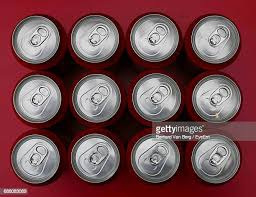can: (183, 9, 241, 68), (65, 70, 123, 128), (186, 127, 243, 186), (126, 9, 182, 67), (126, 71, 182, 129), (68, 9, 123, 68), (7, 69, 62, 128), (124, 131, 184, 185), (66, 130, 123, 186), (185, 71, 242, 126), (7, 11, 62, 65), (8, 131, 64, 184)
